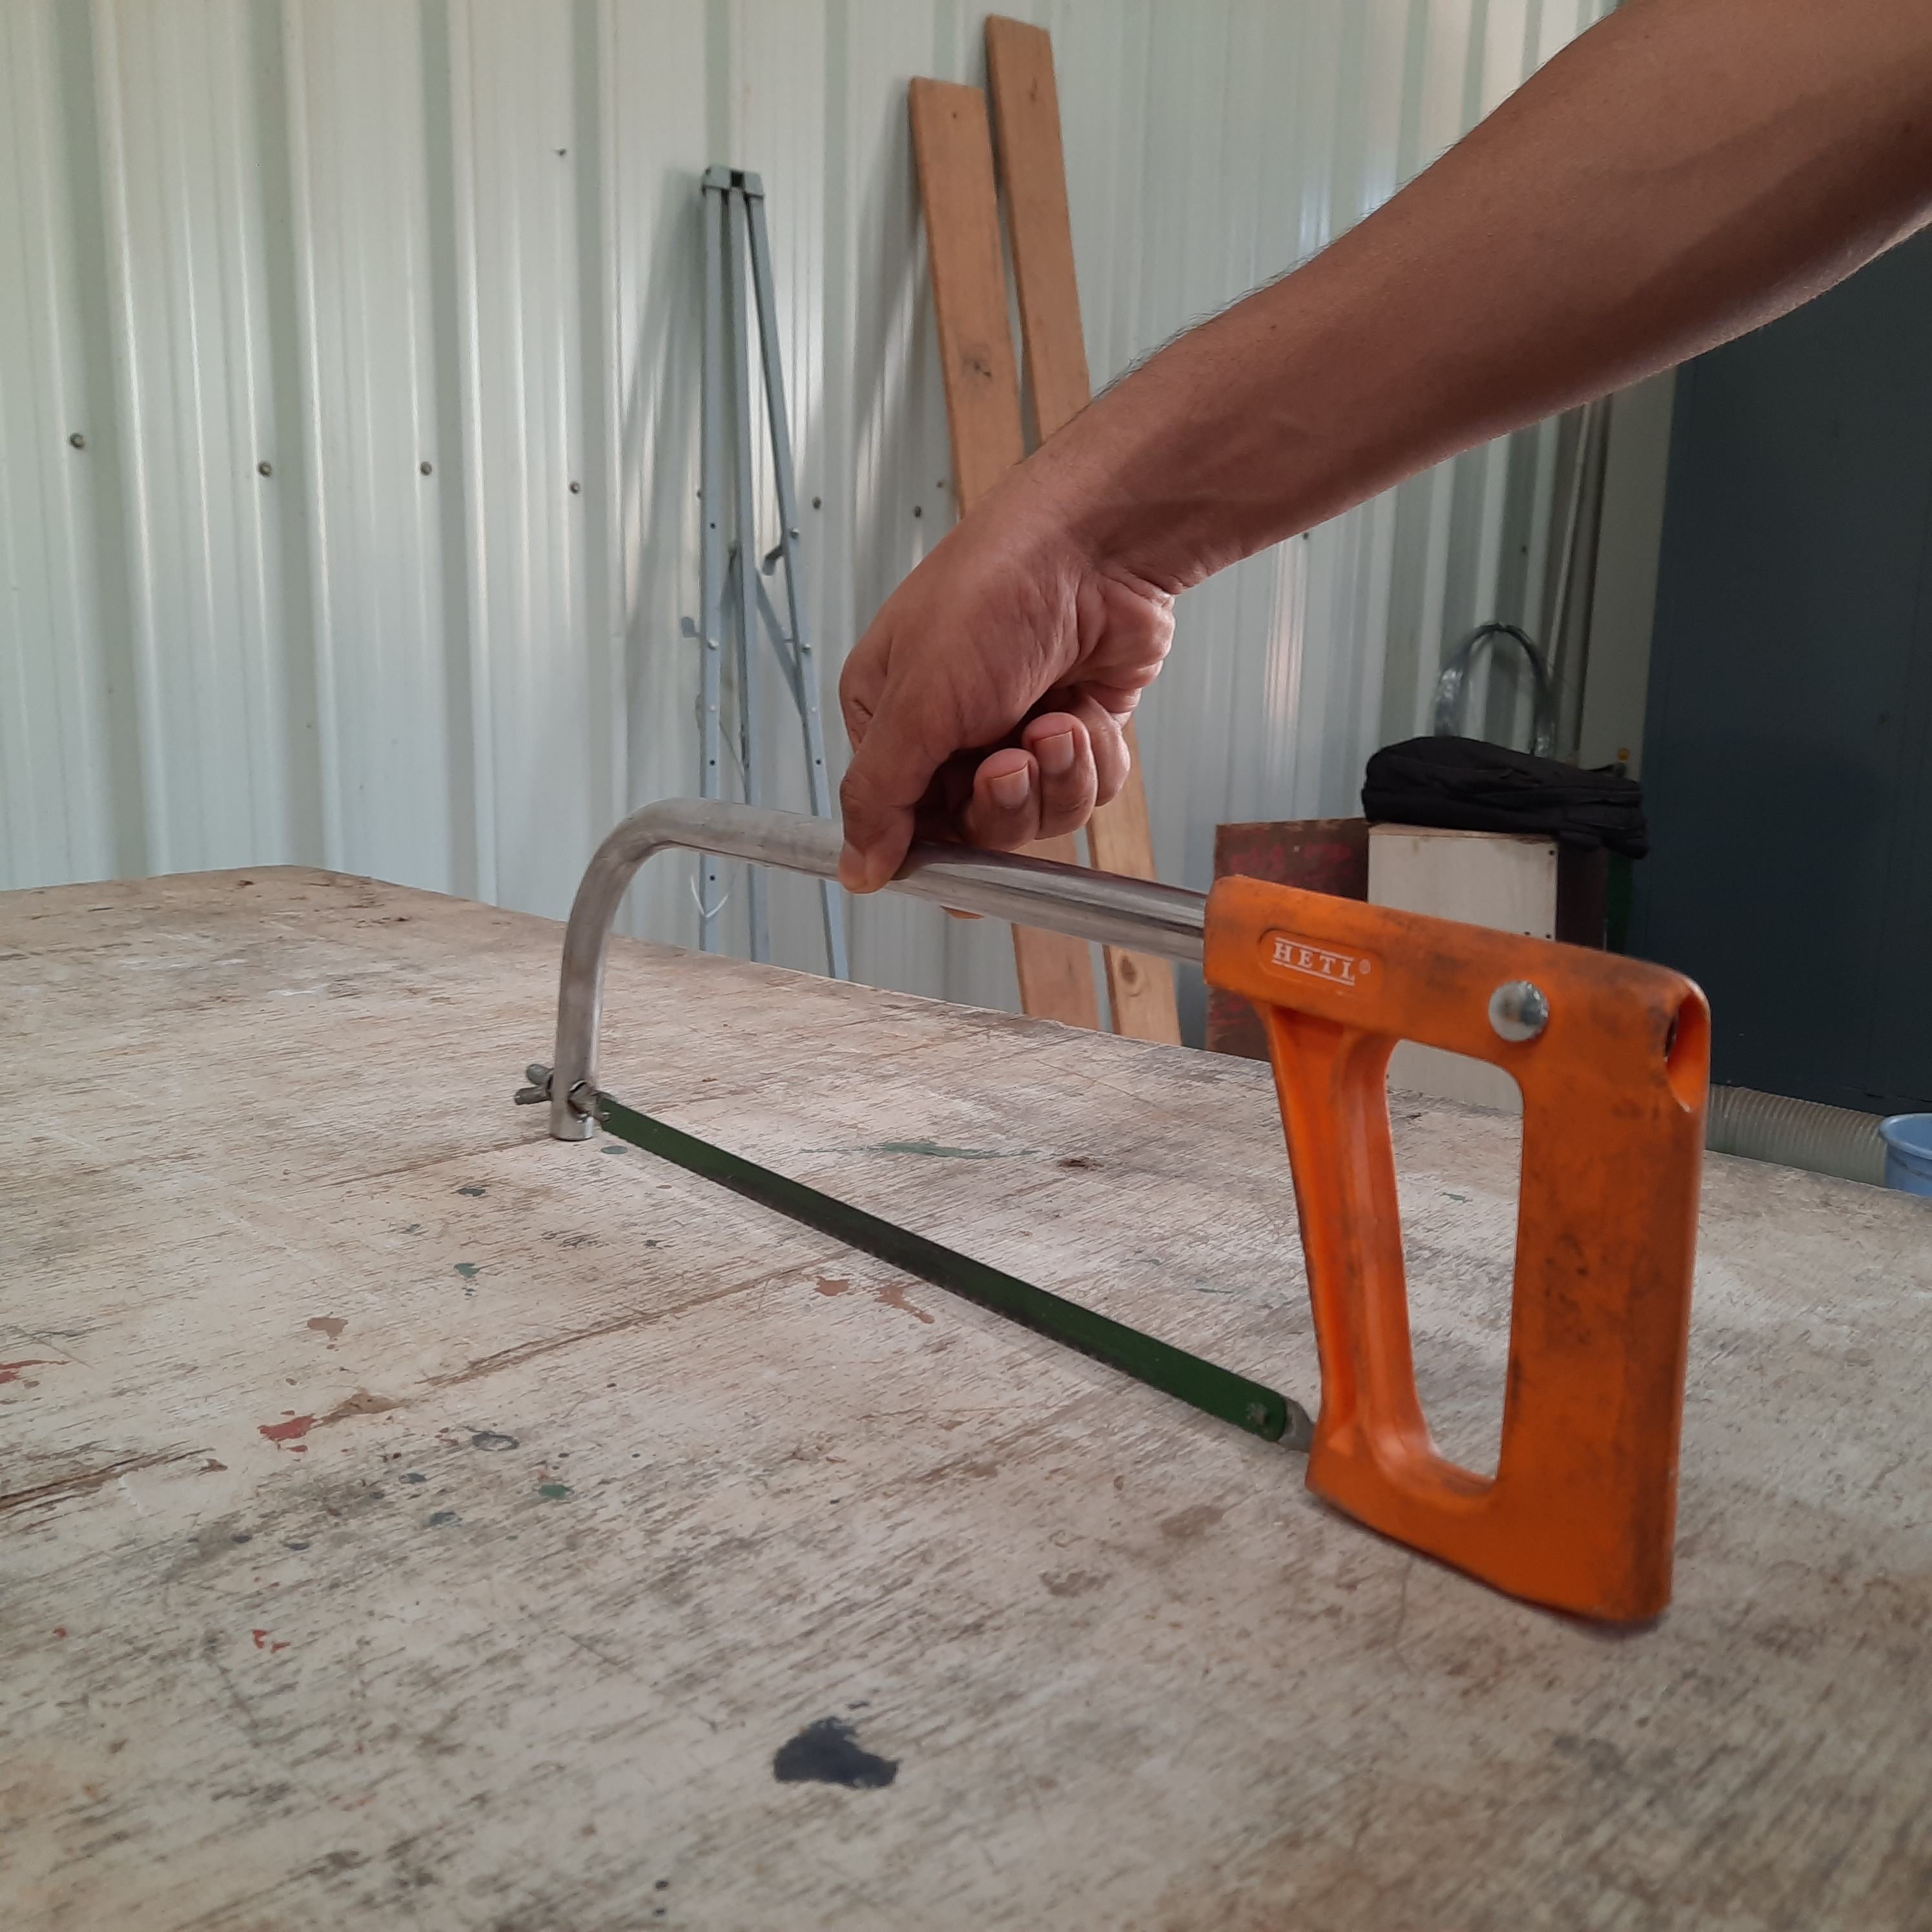Hexaframe: (529, 794, 1691, 1640)
